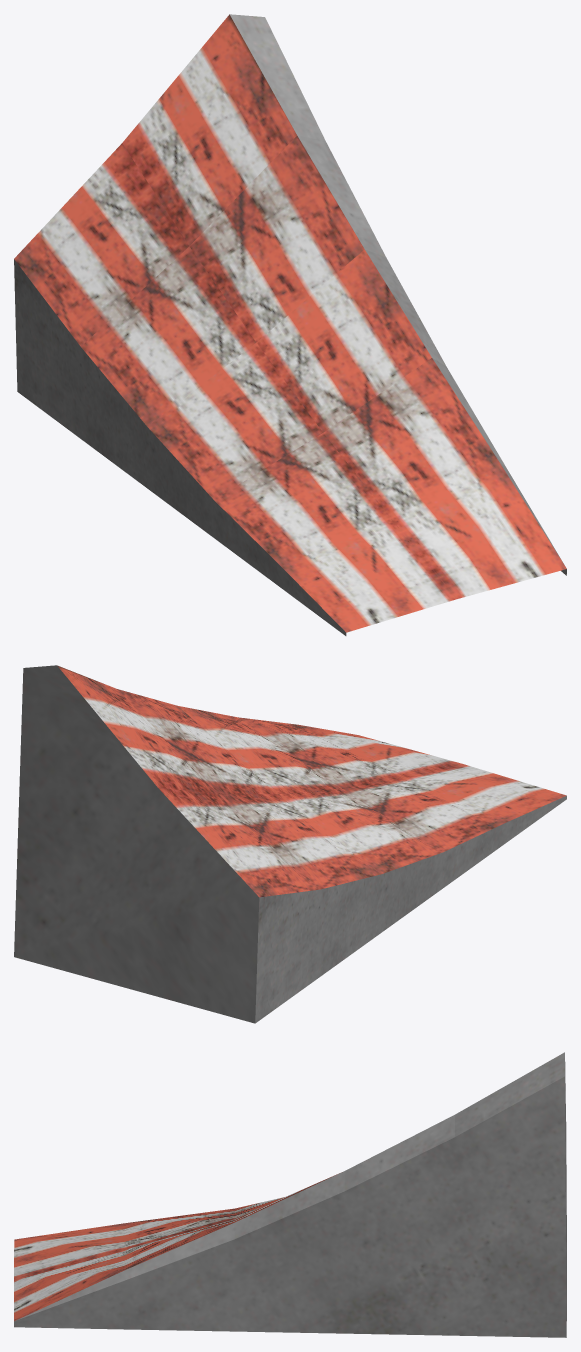
File: ramp.fbx
3 views of the same model, one above another, from view 1: azimuth 30°, elevation 25°; view 2: azimuth 150°, elevation 25°; view 3: azimuth 270°, elevation 25° (orthographic). The views are drawn at different scales.
Parts seen in each view (by area): view 1: Ramps06; view 2: Ramps06; view 3: Ramps06.
Part boxes in pixels (x1,y1,x2,y2): Ramps06: [14, 14, 566, 635]; Ramps06: [14, 665, 566, 1023]; Ramps06: [14, 1052, 566, 1337].
Bounding box in the file's own units: 11.08 × 13.5 × 24.39.
Materials: 1 (1 with a texture image).
